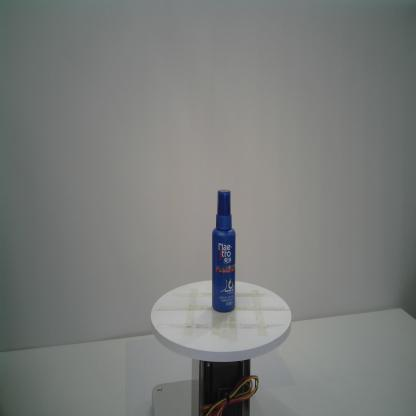Personal Hygiene: (211, 188, 236, 313)
